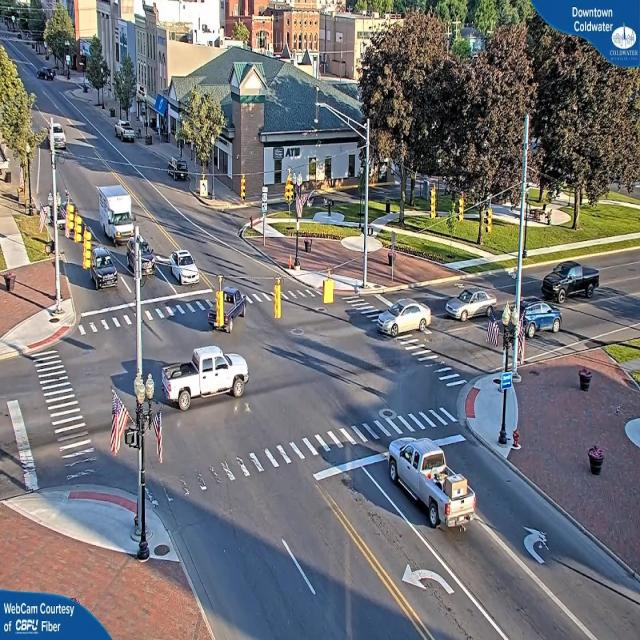car: (386, 438, 474, 537), (167, 345, 249, 407), (543, 262, 602, 300), (210, 287, 247, 331), (384, 298, 430, 330), (523, 298, 563, 334), (448, 289, 493, 320), (123, 236, 157, 275), (167, 251, 200, 286), (90, 258, 118, 288), (49, 122, 67, 152), (165, 158, 189, 180), (116, 123, 135, 143)
truck: (102, 182, 138, 243)
